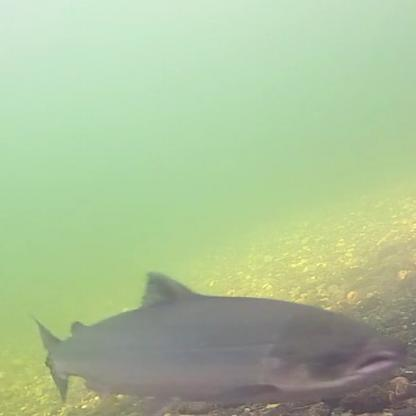salmon: (24, 264, 409, 409)
